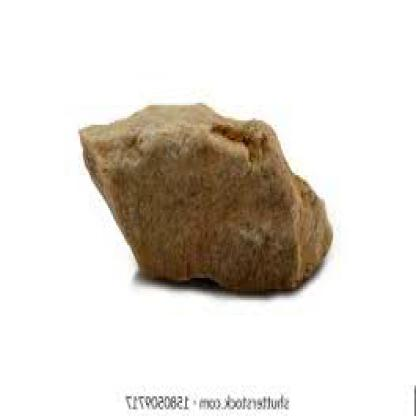Metamorphic_Quartize: (70, 74, 338, 292)
